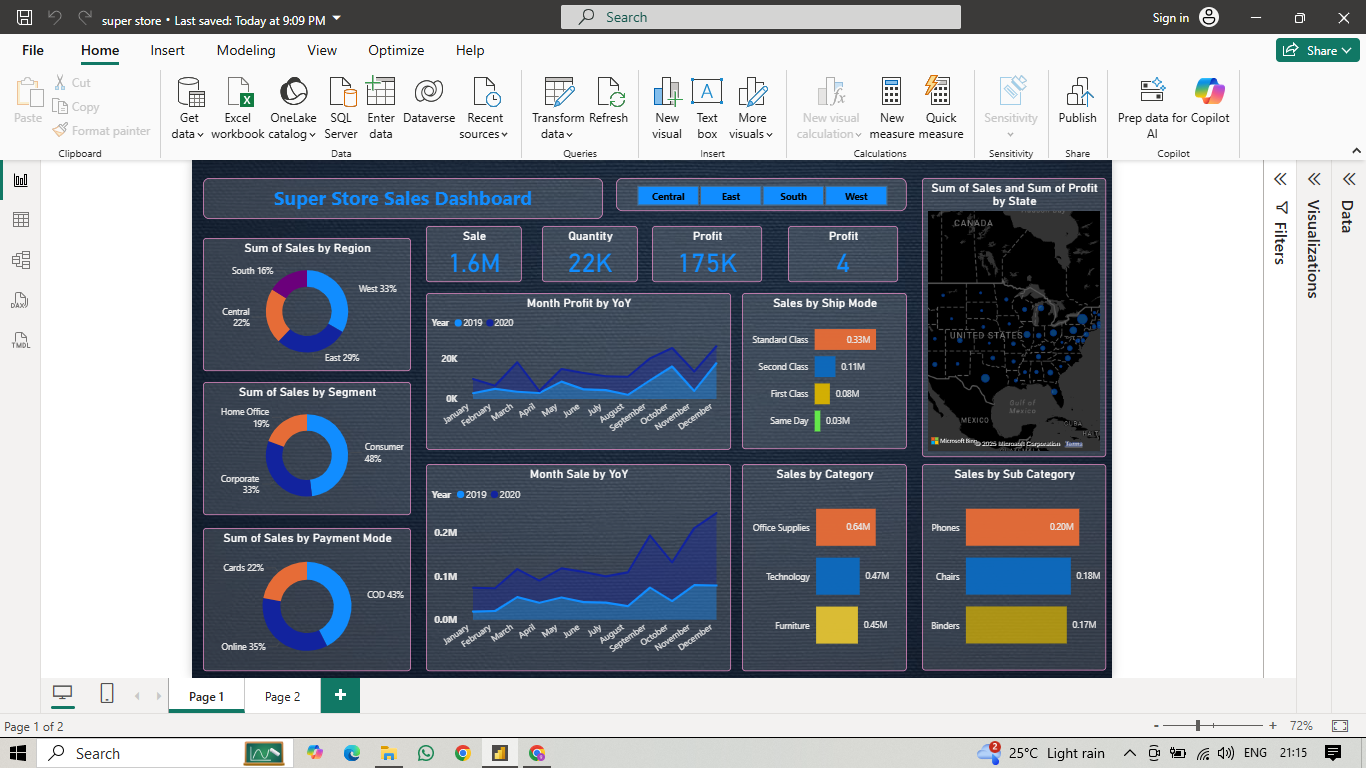

What the dashboard file says about the page in this screenshot:
{"tool":"powerbi","page":{"name":"Page 1","canvas":[1280,720],"ordinal":0},"visuals":[{"type":"clusteredBarChart","title":"Sales by Category","fields":{"Category":["SuperStore_Sales_Dataset (1).Category"],"Y":["SuperStore_Sales_Dataset (1).Sales"]},"box":[764.5,422.5,229.3,287.7],"z":0},{"type":"clusteredBarChart","title":"Sales by Sub Category","fields":{"Category":["SuperStore_Sales_Dataset (1).Sub-Category"],"Y":["SuperStore_Sales_Dataset (1).Sales"]},"box":[1014,421.9,256,287.5],"z":1000},{"type":"clusteredBarChart","title":"Sales by Ship Mode","fields":{"Category":["SuperStore_Sales_Dataset (1).Ship Mode"],"Y":["SuperStore_Sales_Dataset (1).Sales"]},"box":[764.5,184.9,229.3,216.8],"z":2000},{"type":"stackedAreaChart","title":"Month Sale by YoY","fields":{"Y":["SuperStore_Sales_Dataset (1).Sales"],"Series":["SuperStore_Sales_Dataset (1).Order Date.Variation.Date Hierarchy.Year"],"Category":["SuperStore_Sales_Dataset (1).Order Date.Variation.Date Hierarchy.Month","SuperStore_Sales_Dataset (1).Order Date.Variation.Date Hierarchy.Day"]},"box":[325.3,422.5,423.9,287.7],"z":3000},{"type":"stackedAreaChart","title":"Month Profit by YoY","fields":{"Series":["SuperStore_Sales_Dataset (1).Order Date.Variation.Date Hierarchy.Year"],"Category":["SuperStore_Sales_Dataset (1).Order Date.Variation.Date Hierarchy.Month","SuperStore_Sales_Dataset (1).Order Date.Variation.Date Hierarchy.Day"],"Y":["SuperStore_Sales_Dataset (1).Profit"]},"box":[325.3,184.9,423.9,218.2],"z":4000},{"type":"map","fields":{"Category":["SuperStore_Sales_Dataset (1).State"],"Size":["SuperStore_Sales_Dataset (1).Sales"]},"box":[1014.7,25,255.8,387.8],"z":5000},{"type":"donutChart","fields":{"Category":["SuperStore_Sales_Dataset (1).Segment"],"Y":["SuperStore_Sales_Dataset (1).Sales"]},"box":[15.3,308.6,289.1,184.9],"z":6000},{"type":"donutChart","fields":{"Category":["SuperStore_Sales_Dataset (1).Payment Mode"],"Y":["SuperStore_Sales_Dataset (1).Sales"]},"box":[15.3,511.5,289.1,198.8],"z":7000},{"type":"slicer","fields":{"Values":["SuperStore_Sales_Dataset (1).Region"]},"box":[589.3,25,404.5,45.9],"z":8000},{"type":"textbox","box":[15.3,25,556,57],"z":9000},{"type":"card","title":"Sale","fields":{"Values":["SuperStore_Sales_Dataset (1).Sales"]},"box":[325.3,91.7,133.4,77.8],"z":10000},{"type":"card","title":"Quantity","fields":{"Values":["SuperStore_Sales_Dataset (1).Quantity"]},"box":[486.5,91.7,133.4,77.8],"z":11000},{"type":"card","title":"Profit","fields":{"Values":["SuperStore_Sales_Dataset (1).Profit"]},"box":[639.4,91.7,152.9,77.8],"z":12000},{"type":"card","title":"Profit","fields":{"Values":["SuperStore_Sales_Dataset (1).AvgDelivery"]},"box":[828.4,91.7,152.9,77.8],"z":13000},{"type":"donutChart","fields":{"Category":["SuperStore_Sales_Dataset (1).Region","SuperStore_Sales_Dataset (1).Segment"],"Y":["SuperStore_Sales_Dataset (1).Sales"]},"box":[15.3,108.4,289.1,184.9],"z":14000}]}

Visuals, with their boxes on the page's 1280x720 design canvas (x1, y1, x2, y2). These are canvas units, not pixel positions in the 1366x768 screenshot, which may show the page scaled, cropped or inside an application window:
"Sales by Category" clusteredBarChart: pyautogui.locateOnScreen(764, 422, 994, 710)
"Sales by Sub Category" clusteredBarChart: pyautogui.locateOnScreen(1014, 422, 1270, 709)
"Sales by Ship Mode" clusteredBarChart: pyautogui.locateOnScreen(764, 185, 994, 402)
"Month Sale by YoY" stackedAreaChart: pyautogui.locateOnScreen(325, 422, 749, 710)
"Month Profit by YoY" stackedAreaChart: pyautogui.locateOnScreen(325, 185, 749, 403)
map - SuperStore_Sales_Dataset (1).State x SuperStore_Sales_Dataset (1).Sales: pyautogui.locateOnScreen(1015, 25, 1270, 413)
donutChart - SuperStore_Sales_Dataset (1).Segment x SuperStore_Sales_Dataset (1).Sales: pyautogui.locateOnScreen(15, 309, 304, 494)
donutChart - SuperStore_Sales_Dataset (1).Payment Mode x SuperStore_Sales_Dataset (1).Sales: pyautogui.locateOnScreen(15, 512, 304, 710)
slicer - SuperStore_Sales_Dataset (1).Region: pyautogui.locateOnScreen(589, 25, 994, 71)
textbox: pyautogui.locateOnScreen(15, 25, 571, 82)
"Sale" card: pyautogui.locateOnScreen(325, 92, 459, 170)
"Quantity" card: pyautogui.locateOnScreen(486, 92, 620, 170)
"Profit" card: pyautogui.locateOnScreen(639, 92, 792, 170)
"Profit" card: pyautogui.locateOnScreen(828, 92, 981, 170)
donutChart - SuperStore_Sales_Dataset (1).Region x SuperStore_Sales_Dataset (1).Segment: pyautogui.locateOnScreen(15, 108, 304, 293)
